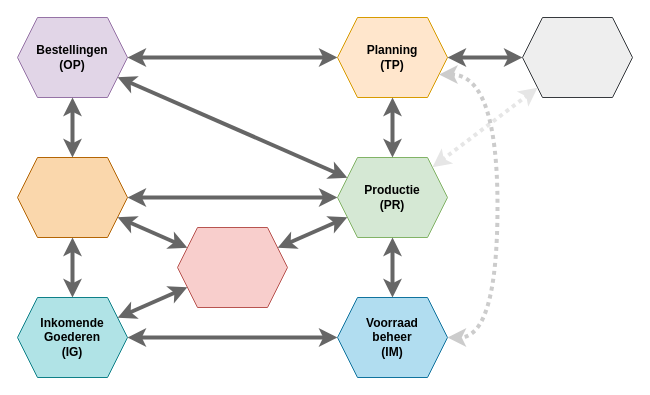
This 650x395 diagram has some shape labels left out. Each missing label, with the centre of its shape:
"Klachten (CL)" belongs at [72,197].
"Kwaliteits Controle (QC)" belongs at [232,267].
"Onderhoud (MM)" belongs at [577,57].
